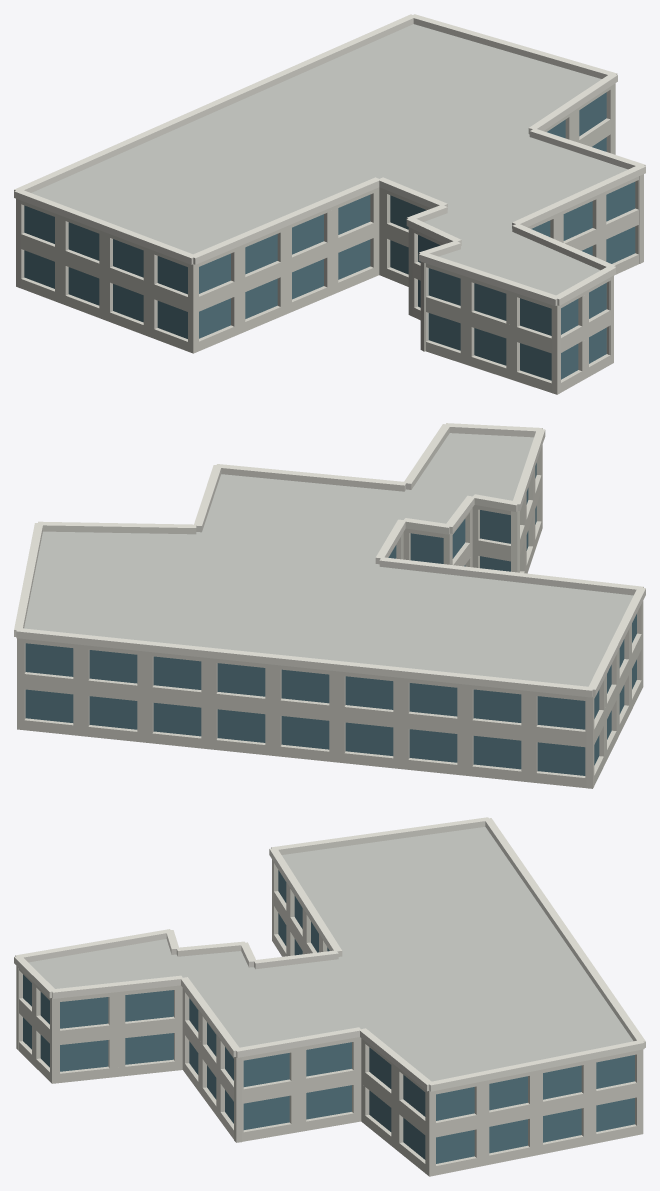
The model's file is sb_1556514395.far.glb.
3 renders of one model, top to bottom at view 1: azimuth 30°, elevation 25°; view 2: azimuth 150°, elevation 25°; view 3: azimuth 270°, elevation 25°, orthographic. The views are drawn at different scales.
Parts seen in each view (by area): view 1: roof, wall, glass, trim; view 2: roof, wall, glass, trim; view 3: roof, wall, glass, trim.
Boxes of the visible parts, x1=… form: roof: x1=31, y1=24, x2=627, y2=295; wall: x1=16, y1=83, x2=643, y2=394; glass: x1=24, y1=92, x2=635, y2=380; trim: x1=14, y1=14, x2=645, y2=305; roof: x1=24, y1=433, x2=633, y2=686; wall: x1=17, y1=445, x2=643, y2=788; glass: x1=25, y1=463, x2=636, y2=775; trim: x1=14, y1=423, x2=645, y2=697; roof: x1=28, y1=827, x2=633, y2=1081; wall: x1=16, y1=859, x2=643, y2=1176; glass: x1=23, y1=870, x2=634, y2=1163; trim: x1=14, y1=817, x2=645, y2=1091.
Size of the model in its own units: 40.16 by 6.44 by 39.97.
